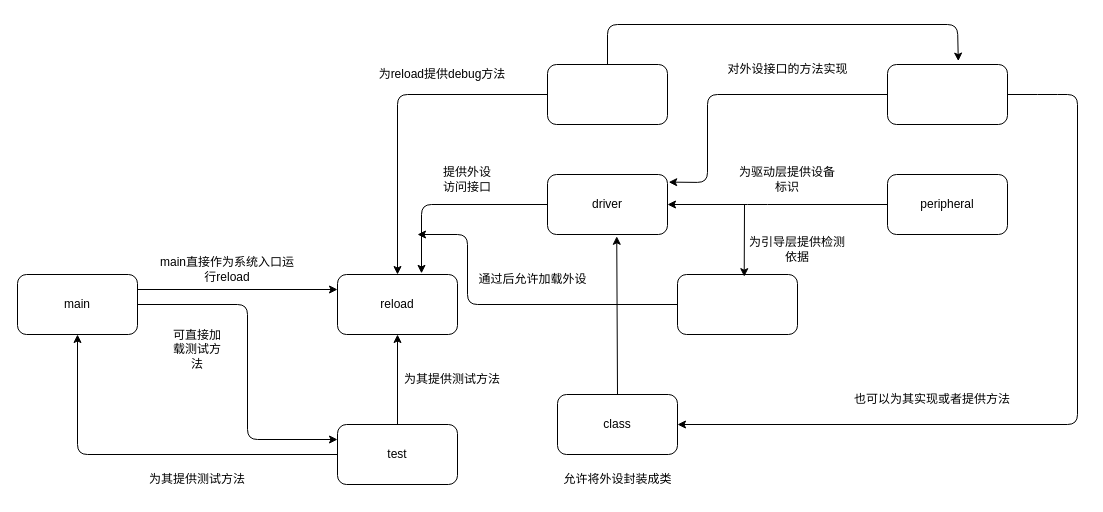
This 1103x512 diagram has some shape labels left out. Each missing label, with the centre of its shape:
"bios" belongs at point 737,304.
"debug" belongs at point 607,94.
"library" belongs at point 947,94.
